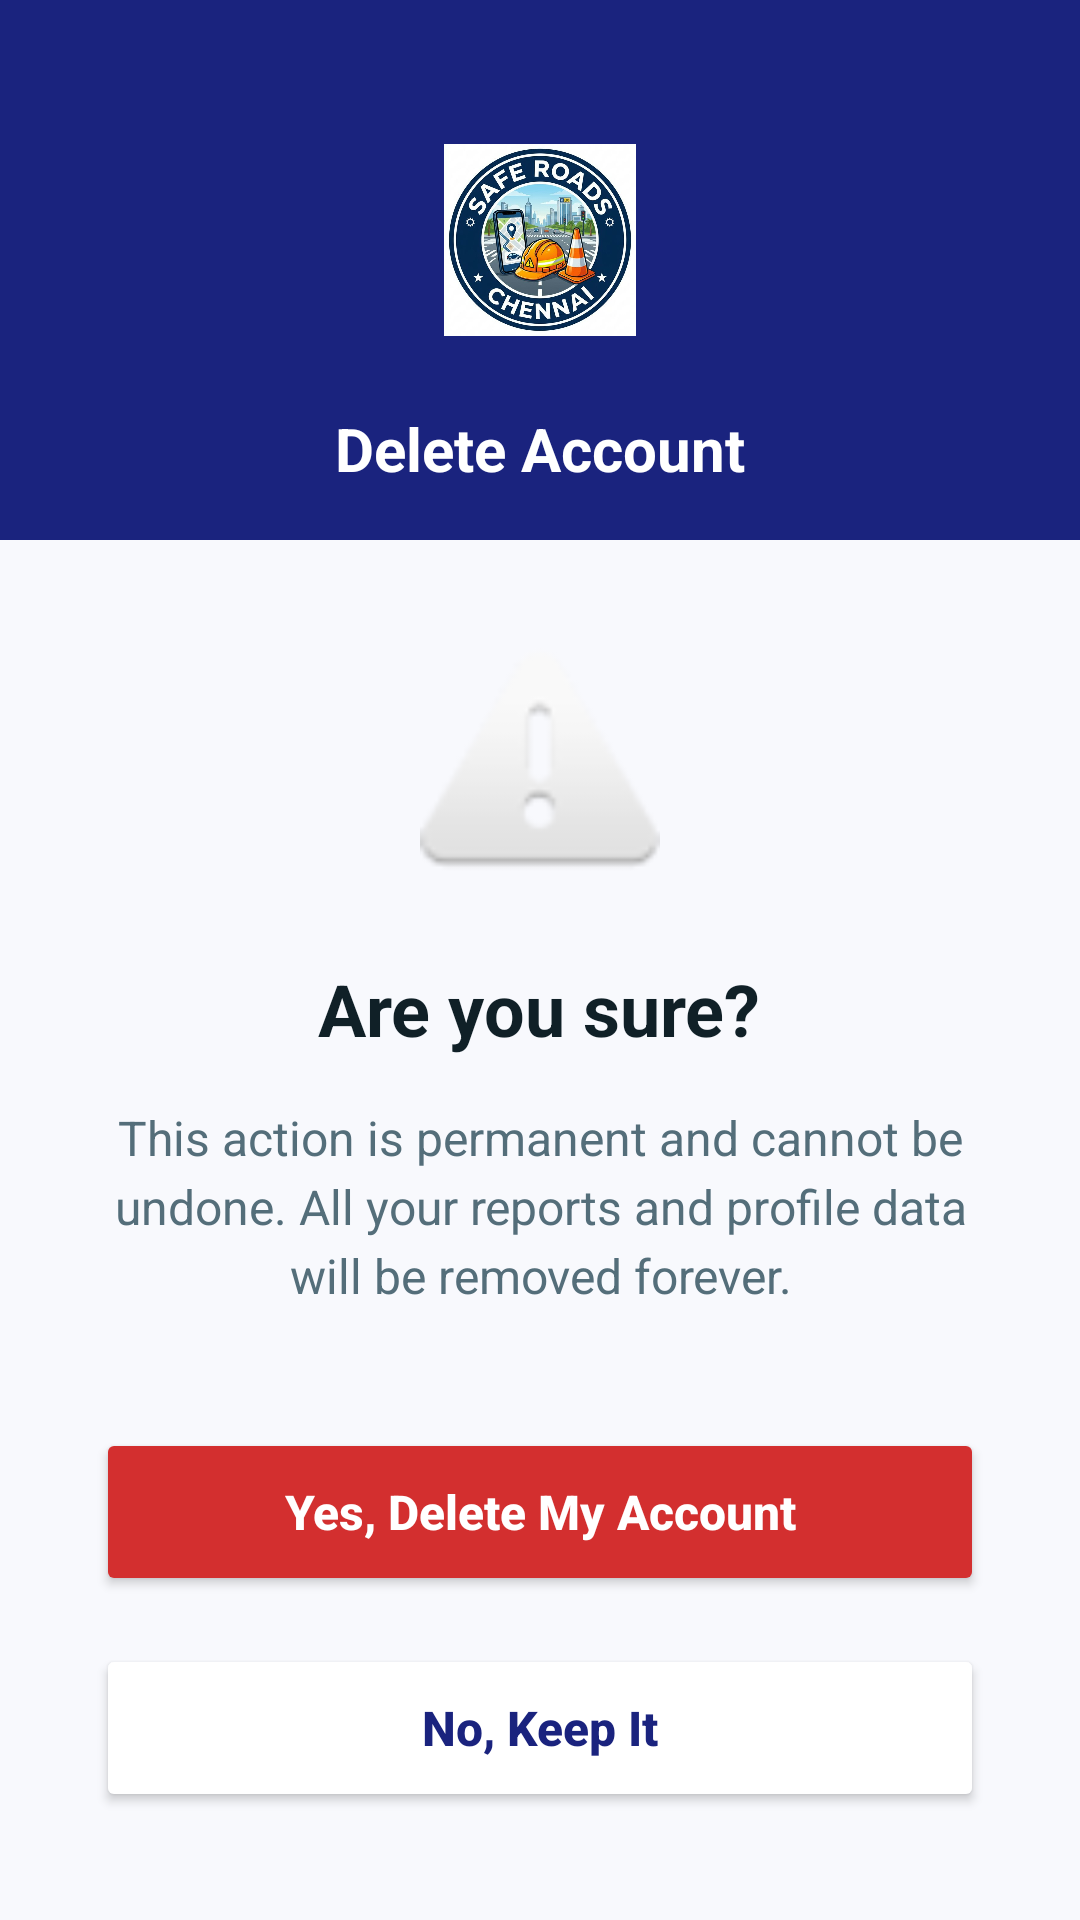

Where icons sit on this 1080×1920 app screen, as detection(x1, y1, x2, y2):
alert: detection(420, 704, 660, 865)
